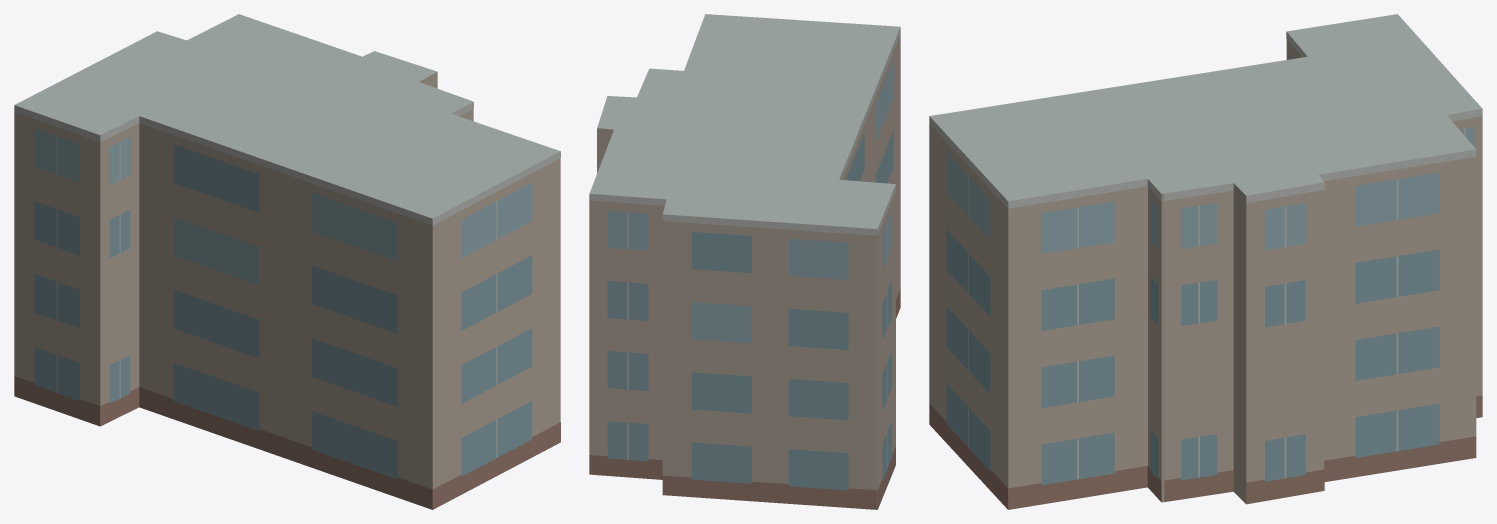
The model's file is survey-upis-32618472.glb.
3 views of the same model, side by side, from view 1: azimuth 30°, elevation 25°; view 2: azimuth 150°, elevation 25°; view 3: azimuth 270°, elevation 25° (orthographic). The views are drawn at different scales.
Visible parts, largest first — view 1: survey-upis-32618472.tmp; view 2: survey-upis-32618472.tmp; view 3: survey-upis-32618472.tmp.
Part boxes in pixels (box(x1,y1,x2,y2)): survey-upis-32618472.tmp: box(14, 14, 560, 509); survey-upis-32618472.tmp: box(589, 14, 900, 509); survey-upis-32618472.tmp: box(929, 14, 1482, 509).
Size of the model in its own units: 13.32 by 10.21 by 16.6.
